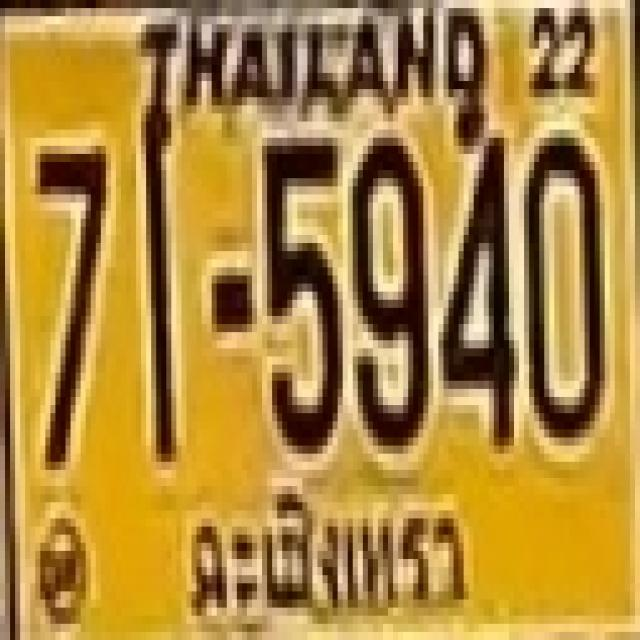0: (519, 130, 600, 429), (348, 134, 423, 442)
1: (141, 128, 185, 471)
4: (441, 126, 511, 442)
5: (262, 137, 338, 446)
7: (33, 146, 103, 462)
9: (348, 134, 423, 442)
CCO: (180, 481, 477, 634)
